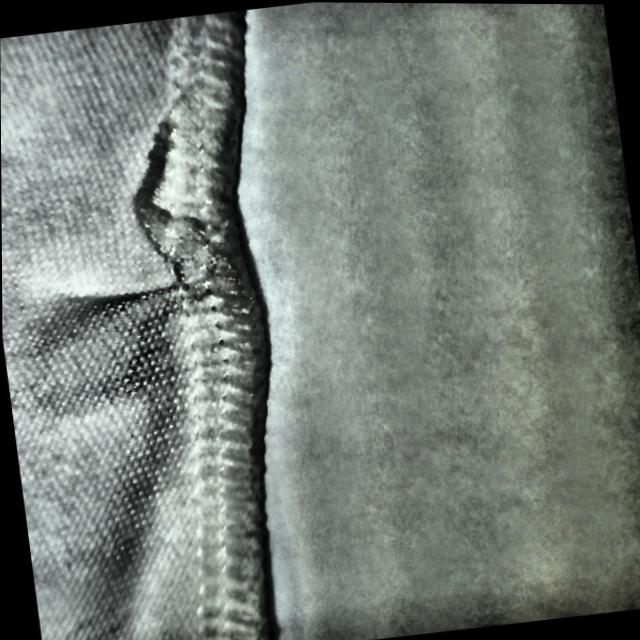seam: (54, 114, 267, 332)
